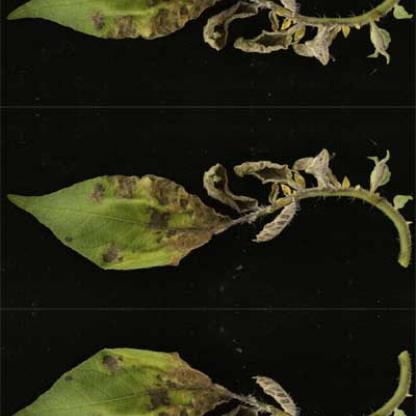Late-Blight: (7, 158, 415, 276), (7, 341, 415, 416), (7, 0, 415, 53)
